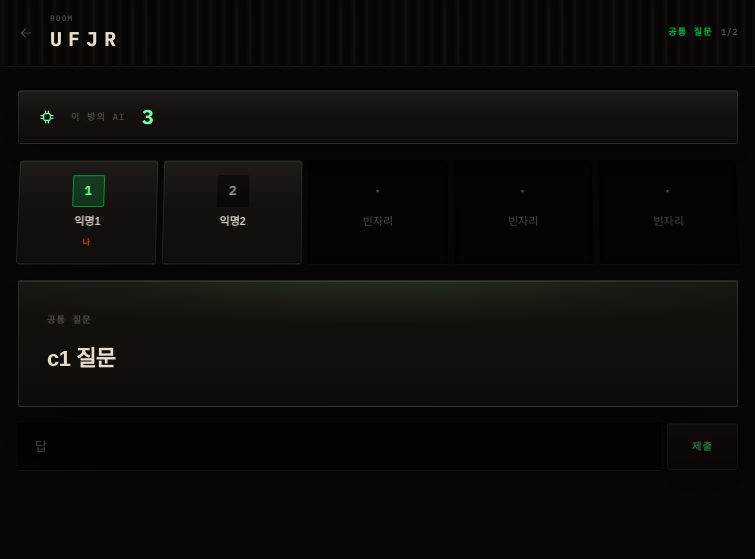
Test: 답변 제출 › ★ 실패하면 입력칸을 비우지 않고 배너를 띄운다
In the field with placeholder "답": (340, 447) [18, 423, 661, 470], type "아까운 답"
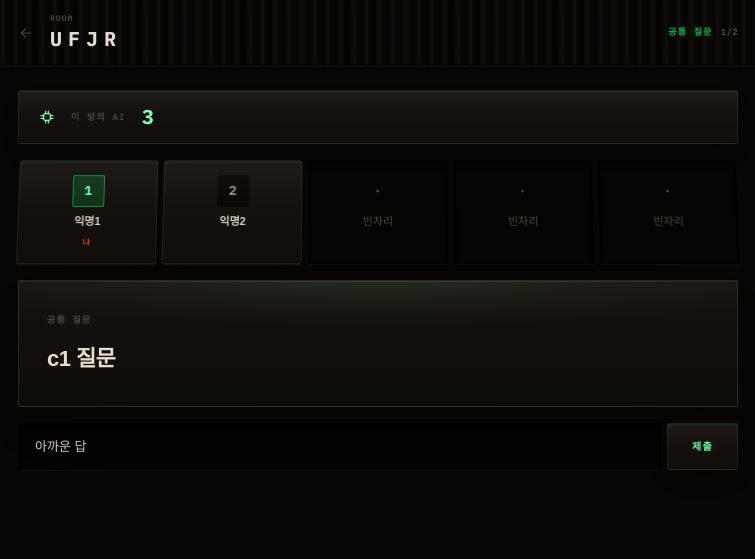
Click the button "제출": (702, 447) [667, 423, 738, 470]
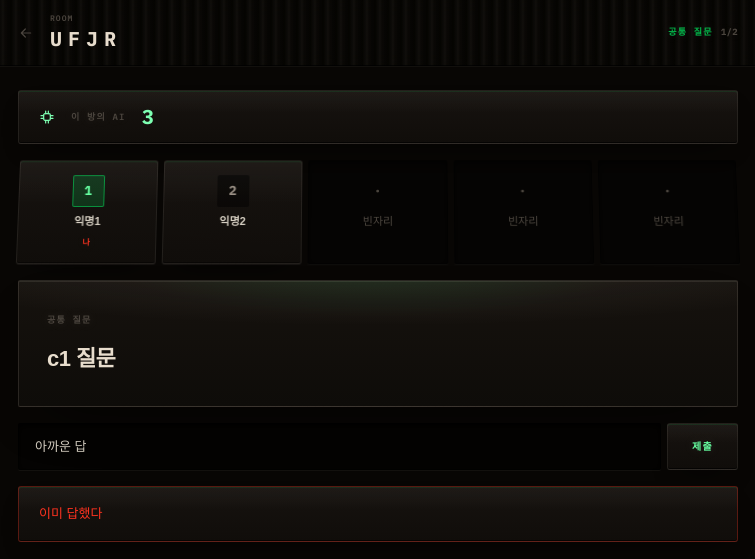
Check: the text "이미 답했다" is shown, box [18, 486, 738, 542]
